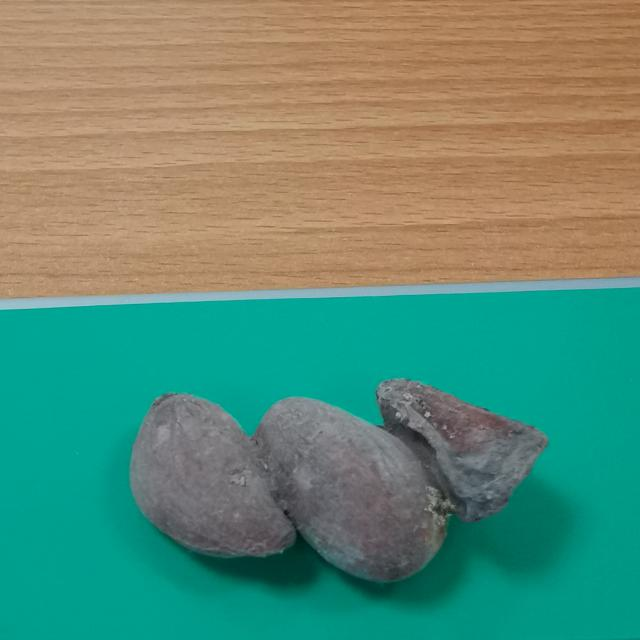Agglomerated_cocoabeans: (101, 330, 610, 640)
